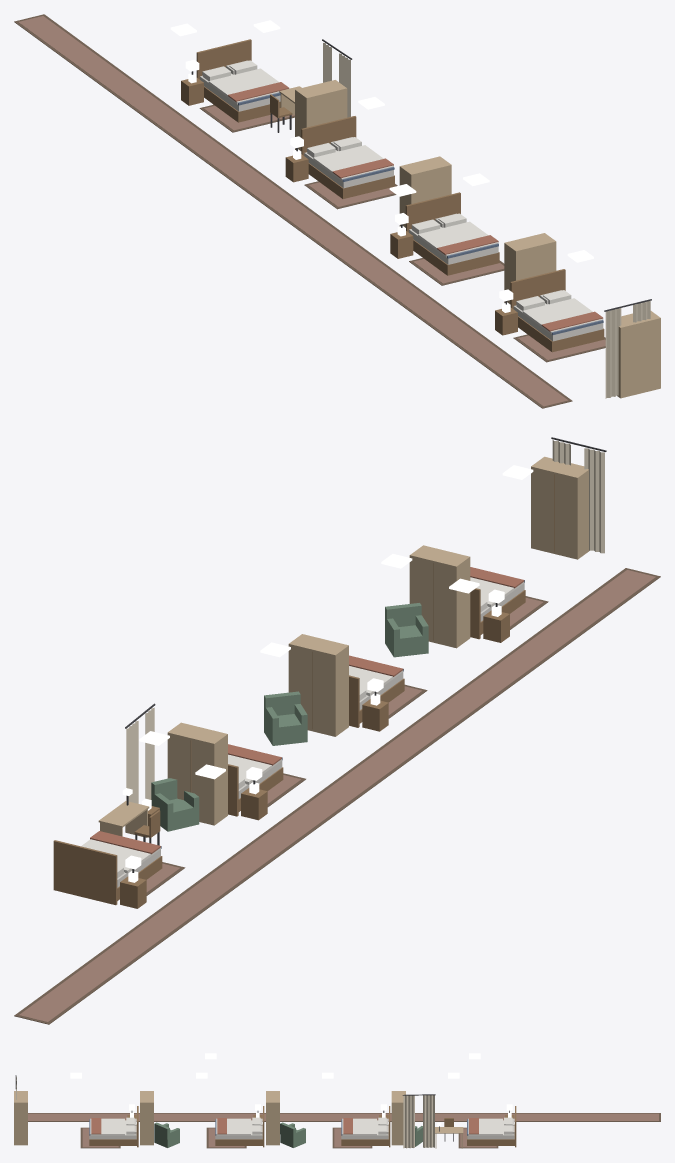
File: fine-s2.glb
The picture shows the model from 3 angles, top to bottom: view 1: azimuth 30°, elevation 25°; view 2: azimuth 150°, elevation 25°; view 3: azimuth 270°, elevation 25°; orthographic projection. The views are drawn at different scales.
Parts seen in each view (by area): view 1: soft-s2, dresser.007, bed-frame.007, bed-frame.005, bed-frame.006, bed-frame.004, dresser.006, dresser.004, dresser.005, nightstand.006, nightstand.005, nightstand.004 (+1 smaller); view 2: soft-s2, dresser.007, dresser.005, dresser.006, dresser.004, bed-frame.004, lounge-chair.004, lounge-chair.005, lounge-chair.003, writing-desk.001, bed-frame.006, bed-frame.005 (+5 smaller); view 3: soft-s2, dresser.005, dresser.006, dresser.007, dresser.004, bed-frame.007, bed-frame.004, bed-frame.005, bed-frame.006, lounge-chair.005, lounge-chair.004, writing-desk.001.
Part boxes in pixels (x1=…): soft-s2: x1=14, y1=14, x2=651, y2=408; dresser.007: x1=617, y1=311, x2=660, y2=398; bed-frame.007: x1=510, y1=269, x2=604, y2=352; bed-frame.005: x1=301, y1=116, x2=394, y2=198; bed-frame.006: x1=405, y1=192, x2=499, y2=275; bed-frame.004: x1=196, y1=39, x2=280, y2=122; dresser.006: x1=504, y1=233, x2=556, y2=303; dresser.004: x1=295, y1=80, x2=347, y2=150; dresser.005: x1=399, y1=156, x2=451, y2=227; nightstand.006: x1=390, y1=226, x2=413, y2=258; nightstand.005: x1=285, y1=149, x2=308, y2=182; nightstand.004: x1=181, y1=73, x2=203, y2=105; soft-s2: x1=14, y1=437, x2=660, y2=1024; dresser.007: x1=531, y1=456, x2=589, y2=559; dresser.005: x1=288, y1=634, x2=348, y2=736; dresser.006: x1=409, y1=545, x2=470, y2=648; dresser.004: x1=167, y1=722, x2=227, y2=825; bed-frame.004: x1=53, y1=840, x2=162, y2=905; lounge-chair.004: x1=264, y1=691, x2=307, y2=745; lounge-chair.005: x1=385, y1=603, x2=428, y2=657; lounge-chair.003: x1=151, y1=778, x2=199, y2=831; writing-desk.001: x1=98, y1=788, x2=149, y2=837; bed-frame.006: x1=349, y1=669, x2=404, y2=727; bed-frame.005: x1=228, y1=757, x2=283, y2=816; soft-s2: x1=15, y1=1075, x2=660, y2=1148; dresser.005: x1=266, y1=1091, x2=279, y2=1145; dresser.006: x1=140, y1=1091, x2=153, y2=1145; dresser.007: x1=14, y1=1091, x2=27, y2=1145; dresser.004: x1=391, y1=1091, x2=405, y2=1145; bed-frame.007: x1=89, y1=1106, x2=138, y2=1147; bed-frame.004: x1=467, y1=1106, x2=516, y2=1147; bed-frame.005: x1=341, y1=1106, x2=390, y2=1147; bed-frame.006: x1=215, y1=1106, x2=264, y2=1147; lounge-chair.005: x1=154, y1=1122, x2=179, y2=1147; lounge-chair.004: x1=280, y1=1122, x2=305, y2=1147; writing-desk.001: x1=435, y1=1122, x2=463, y2=1148.
Bounding box in the file's own units: 3.67 × 2.91 × 27.6.
